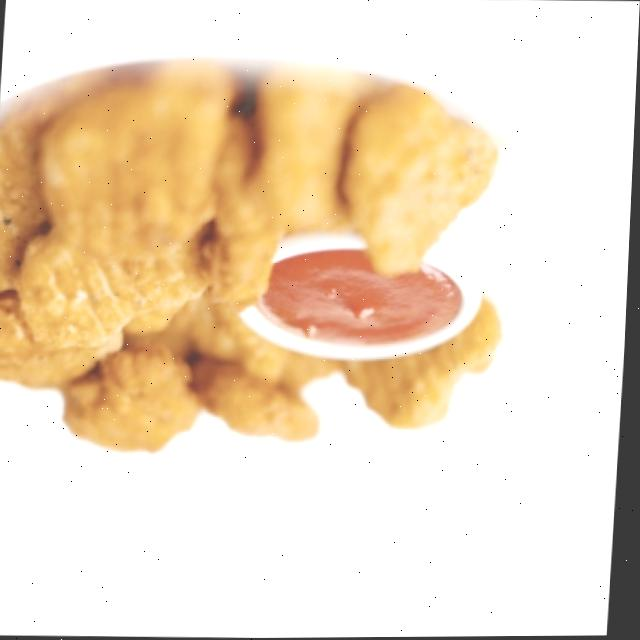鸡肉料理 含炸鸡: (0, 56, 522, 458)
